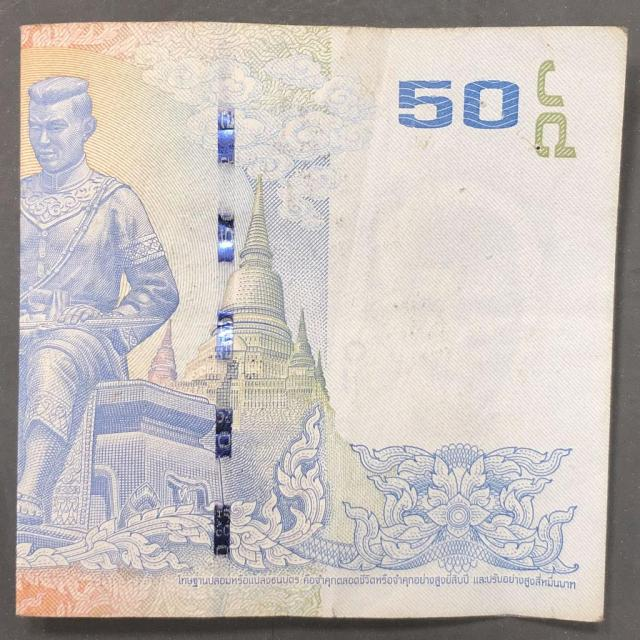THAI50: (16, 22, 627, 621)
